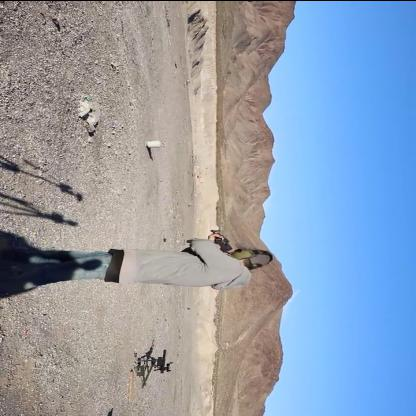long weapon: (137, 344, 185, 378), (191, 223, 235, 256)
